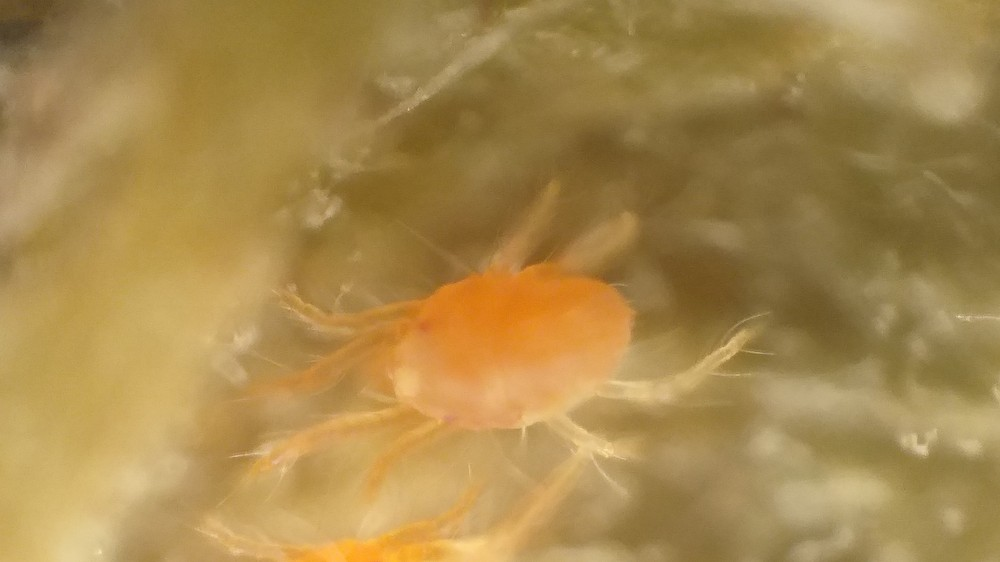Aracnido Rojo: (232, 170, 772, 529)
